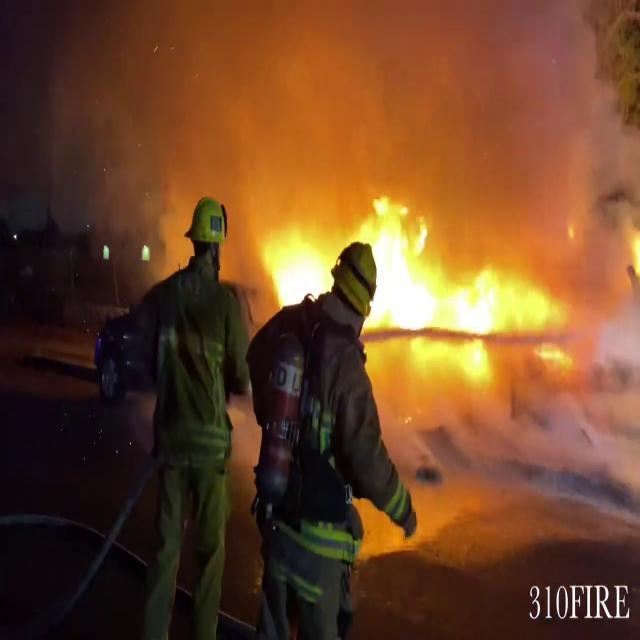Fire: (262, 193, 558, 371), (362, 194, 552, 376)
Smoke: (38, 0, 640, 215)
